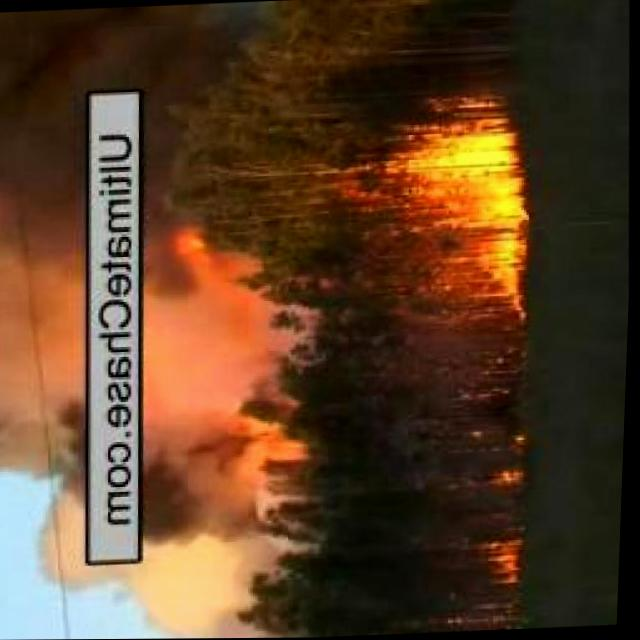Fire: (401, 105, 534, 320), (474, 420, 531, 488), (234, 406, 289, 470), (158, 222, 216, 271), (482, 542, 527, 592)
Smoke: (126, 181, 354, 639), (0, 7, 109, 587)
